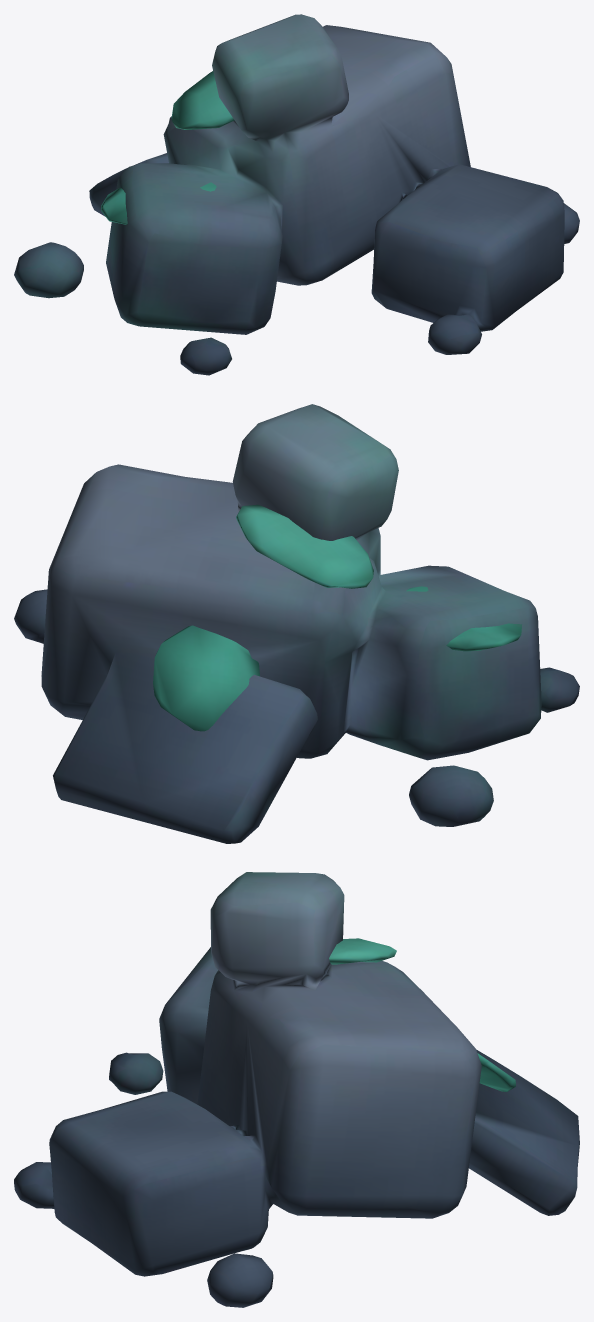
Rendered from rubble.glb.
3 renders of one model, top to bottom at view 1: azimuth 30°, elevation 25°; view 2: azimuth 150°, elevation 25°; view 3: azimuth 270°, elevation 25°, orthographic. The views are drawn at different scales.
Parts seen in each view (by area): view 1: stone; view 2: stone; view 3: stone.
Part boxes in pixels (x1,y1,x2,y2): stone: [14, 14, 579, 375]; stone: [14, 404, 579, 843]; stone: [14, 872, 579, 1307].
Size of the model in its own units: 0.8289 by 0.4215 by 0.7549.
1 material, 1 textured.
